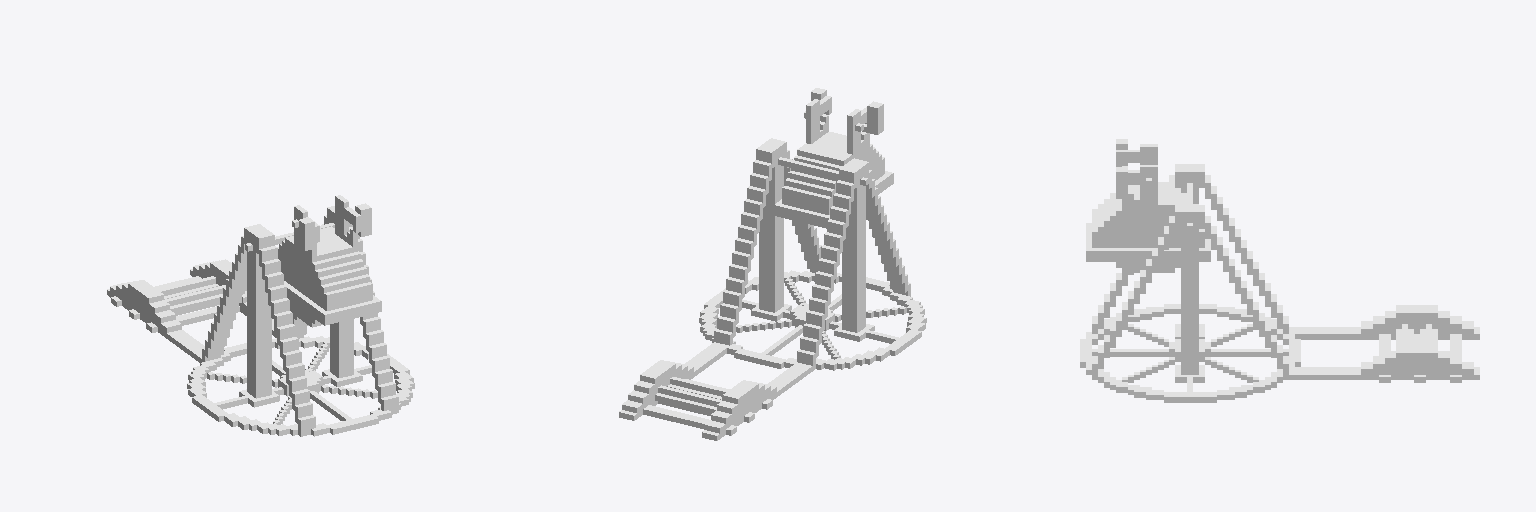
The model's file is catapultBody.obj.
3 renders of one model, left to right at view 1: azimuth 30°, elevation 25°; view 2: azimuth 150°, elevation 25°; view 3: azimuth 270°, elevation 25°, orthographic.
Size of the model in its own units: 37 by 37 by 67.